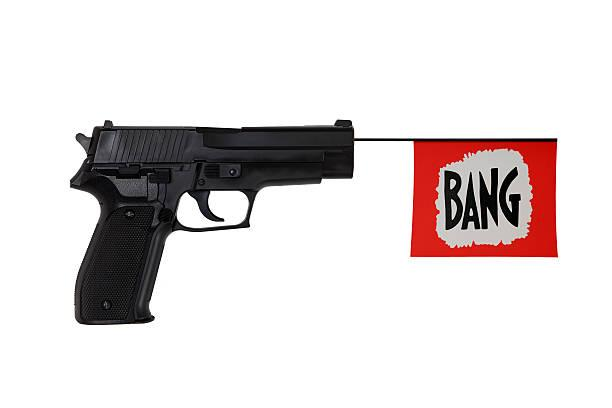weapon: (68, 114, 359, 327)
